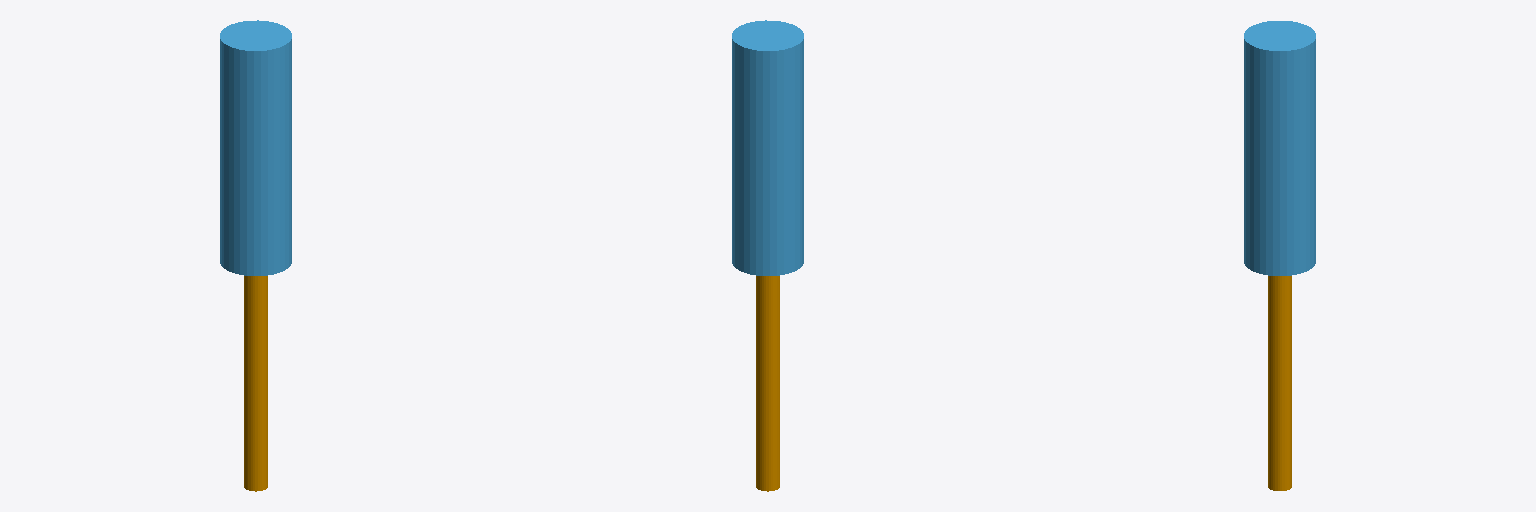
URDF robot description (screwdriver_on_the_table):
<?xml version="1.0" ?>
<!-- this is the one without any virtual joints and links -->
<robot name="screwdriver_on_the_table">
<link name="screwdriver_stick">
    <inertial>
      <mass value="0.05"/>
      <!-- <friction value="1.0"/> -->
      <inertia ixx="0.000041979" ixy="0.0" ixz="0.0" iyy="0.000041979" iyz="0.0" izz="0.000000625"/>
    </inertial>
    <visual>
        <origin rpy="0 0 0" xyz="0 0 0.05"/>
        <geometry>
            <cylinder radius="0.005" length="0.1"/>
        </geometry>
        <!-- <material name="White">
	 	    <color rgba="0.9 0.9 0.9 0.5"/>
        </material> -->
    </visual>
    <collision>
        <origin rpy="0 0 0" xyz="0 0 0.05"/>
        <geometry>
            <cylinder radius="0.005" length="0.1"/>
        </geometry>
    </collision>
</link>

<gazebo reference="screwdriver_body">
    <mu1>1.0</mu1>
    <mu2>1.0</mu2>
    <!-- Isaac Sim maps mu1/mu2 to PhysX static/dynamic friction during URDF→USD import -->
</gazebo>

<joint name="screwdriver_stick_body_joint" type="fixed">
    <parent link="screwdriver_stick"/>
    <child link="screwdriver_body"/>
    <origin rpy="0 0 0" xyz="0 0 0.1"/> 
    <axis xyz="0 0 1"/>
</joint>

<link name="screwdriver_body">
    <inertial>
      <mass value="0.1"/>
      <inertia ixx="0.000088701" ixy="0.0" ixz="0.0" iyy="0.000088701" iyz="0.0" izz="0.000010736"/>
    </inertial>
    <visual>
        <origin rpy="0 0 0" xyz="0 0 0.05"/>
        <geometry>
            <cylinder radius="0.014653" length="0.1"/>
        </geometry>
        <!-- <material name="Red1">
	 	    <color rgba="0.9 0. 0. 0.5"/>
        </material> -->
    </visual>
    <collision>
        <origin rpy="0 0 0" xyz="0 0 0.05"/>
        <geometry>
            <cylinder radius="0.014653" length="0.1"/>
        </geometry>
    </collision>
</link>

<!-- <joint name="screwdriver_body_cap_joint" type="revolute">
    <parent link="screwdriver_body"/>
    <child link="screwdriver_cap"/>
    <origin rpy="0 0 0" xyz="0 0 0.1"/> 
    <axis xyz="0 0 1"/>
</joint>

<link name="screwdriver_cap">
    <inertial>
      <mass value="0.005"/>
      <inertia ixx="0.00001" ixy="0.0" ixz="0.0" iyy="0.000005" iyz="0.0" izz="0.000005"/>
    </inertial>
    <visual>
        <origin rpy="0 0 0" xyz="0 0 0.0006"/>
        <geometry>
            <cylinder radius="0.02" length="0.001"/>
        </geometry>
        <material name="Yellow">
	 	    <color rgba="0.9 0.9 0. 1.0"/>
        </material>
    </visual>
    <collision>
        <origin rpy="0 0 0" xyz="0 0 0.0005"/>
        <geometry>
            <cylinder radius="0.02" length="0.001"/>
        </geometry>
    </collision>
</link> -->

</robot>

--- What the picture shows (computed from the rendered views, not written in the file) ---
The picture shows the robot from 3 angles, left to right: view 1: azimuth 30°, elevation 25°; view 2: azimuth 150°, elevation 25°; view 3: azimuth 270°, elevation 25°; orthographic projection.
Model screwdriver_on_the_table with 2 links and 1 joints (1 fixed), rooted at screwdriver_stick, posed every joint at zero.
Links seen in each view (by area): view 1: screwdriver_body, screwdriver_stick; view 2: screwdriver_body, screwdriver_stick; view 3: screwdriver_body, screwdriver_stick.
Boxes of the visible links, <box> form: screwdriver_body: <box>220,20,291,275</box>; screwdriver_stick: <box>244,276,267,491</box>; screwdriver_body: <box>732,20,803,275</box>; screwdriver_stick: <box>756,276,779,491</box>; screwdriver_body: <box>1244,21,1315,275</box>; screwdriver_stick: <box>1268,276,1291,490</box>.
Size in the robot's own frame: 0.0293 by 0.0293 by 0.2 metres.
Geometry: primitives only (box / cylinder / sphere), no mesh files.
